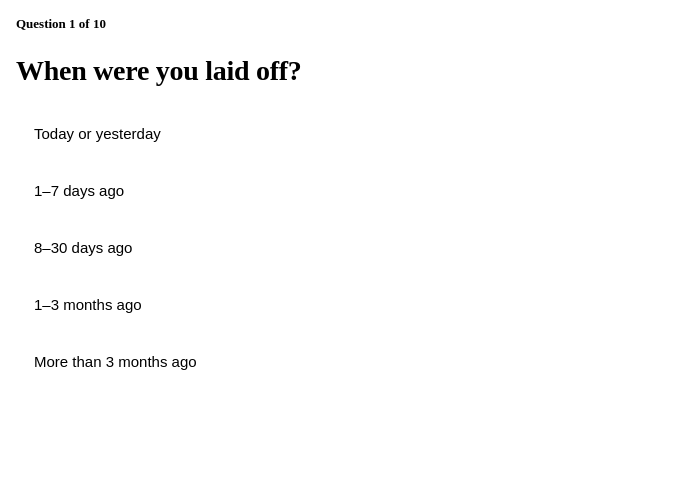
Test case: TriageWizard › advances to the next question when an option is clicked
Click the button "Today or yesterday": (97, 134) [16,111,656,156]
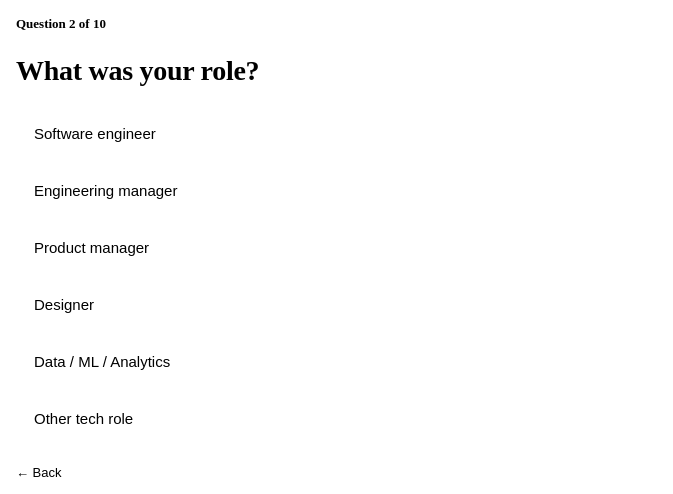
Result: the heading "What was your role?" is shown at [16,55,259,86]
Result: the text "Question 2 of 10" is shown at [16,16,106,31]
